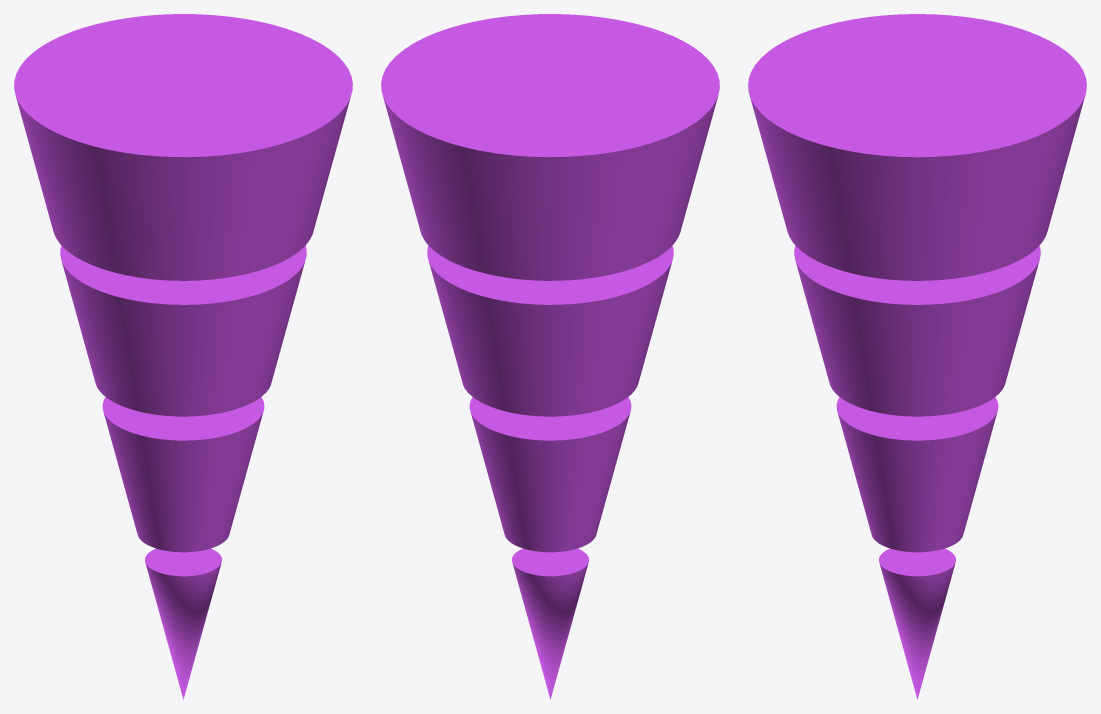
Rendered from LevelUp HP.fbx.
3 views of the same model, side by side, from view 1: azimuth 30°, elevation 25°; view 2: azimuth 150°, elevation 25°; view 3: azimuth 270°, elevation 25° (orthographic).
Visible parts, largest first — view 1: Pilar A HP, Pilar C HP, Pilar B HP; view 2: Pilar A HP, Pilar C HP, Pilar B HP; view 3: Pilar A HP, Pilar C HP, Pilar B HP.
Part boxes in pixels (box(x1,y1,x2,y2)): Pilar A HP: box(14, 14, 352, 699); Pilar C HP: box(60, 245, 306, 416); Pilar B HP: box(102, 397, 264, 552); Pilar A HP: box(381, 14, 719, 699); Pilar C HP: box(427, 245, 673, 416); Pilar B HP: box(469, 397, 631, 552); Pilar A HP: box(748, 14, 1086, 699); Pilar C HP: box(794, 246, 1040, 416); Pilar B HP: box(836, 397, 998, 552).
Bounding box in the file's own units: 60 × 120 × 60.
